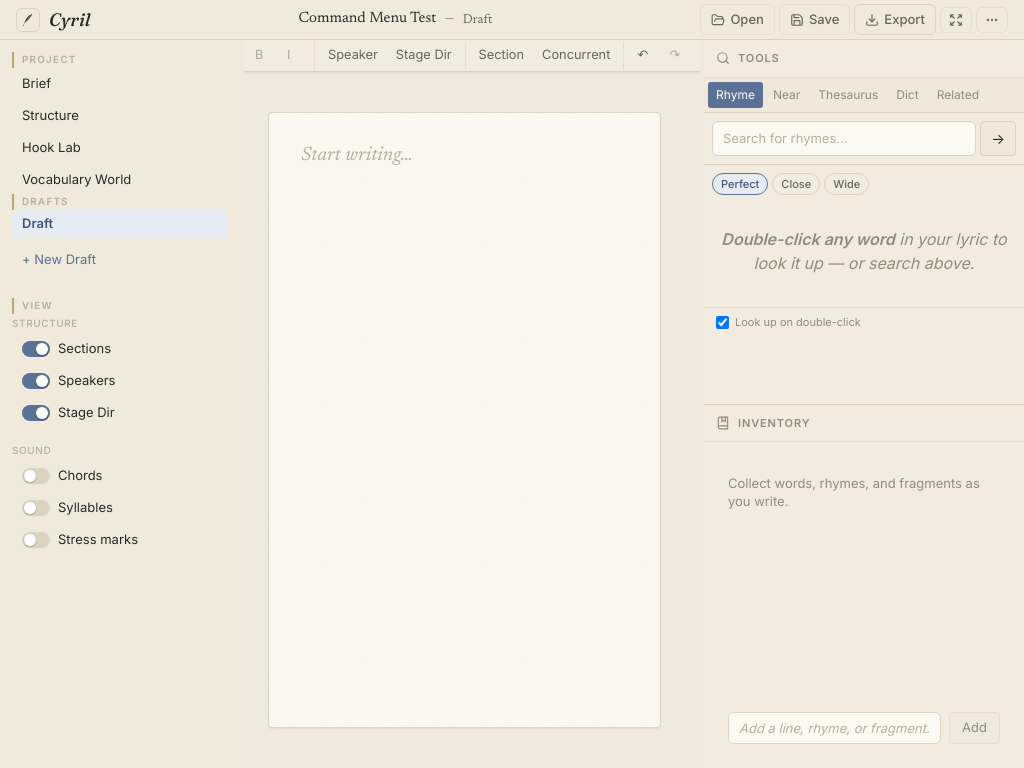
T-15.09: command menu lists shortcuts and closes on Escape › closes via the ✕ close button
Step 1. Press k
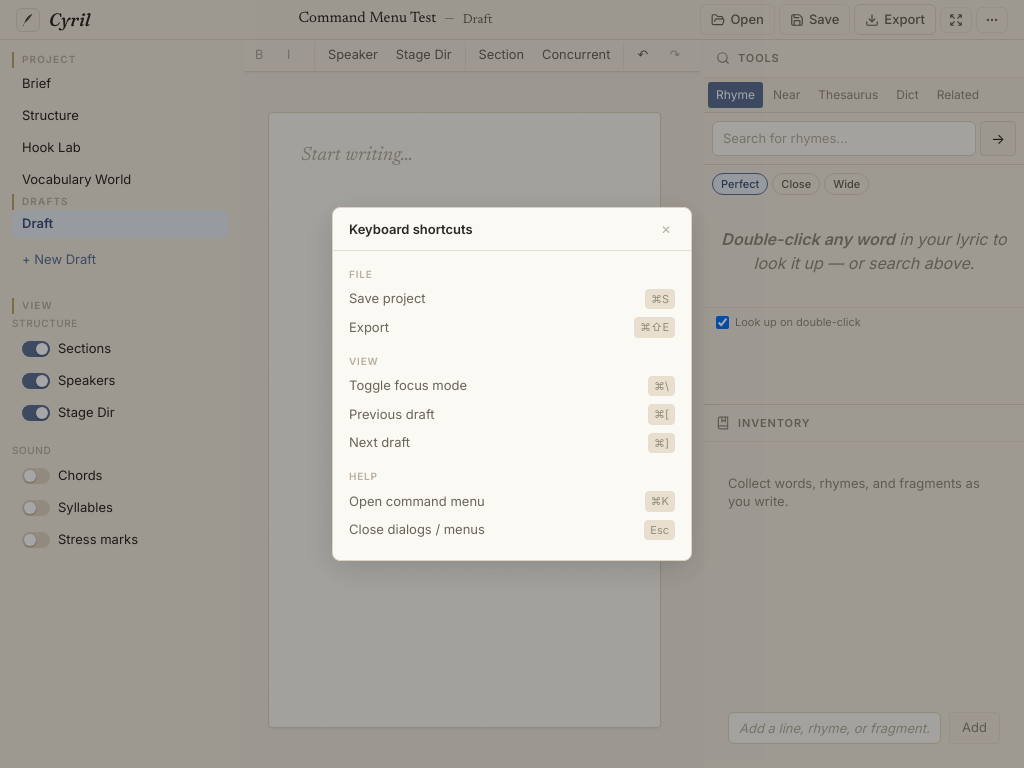
Step 2. Click the button with test id "command-menu-close" → (666, 230), box [657,222,675,238]
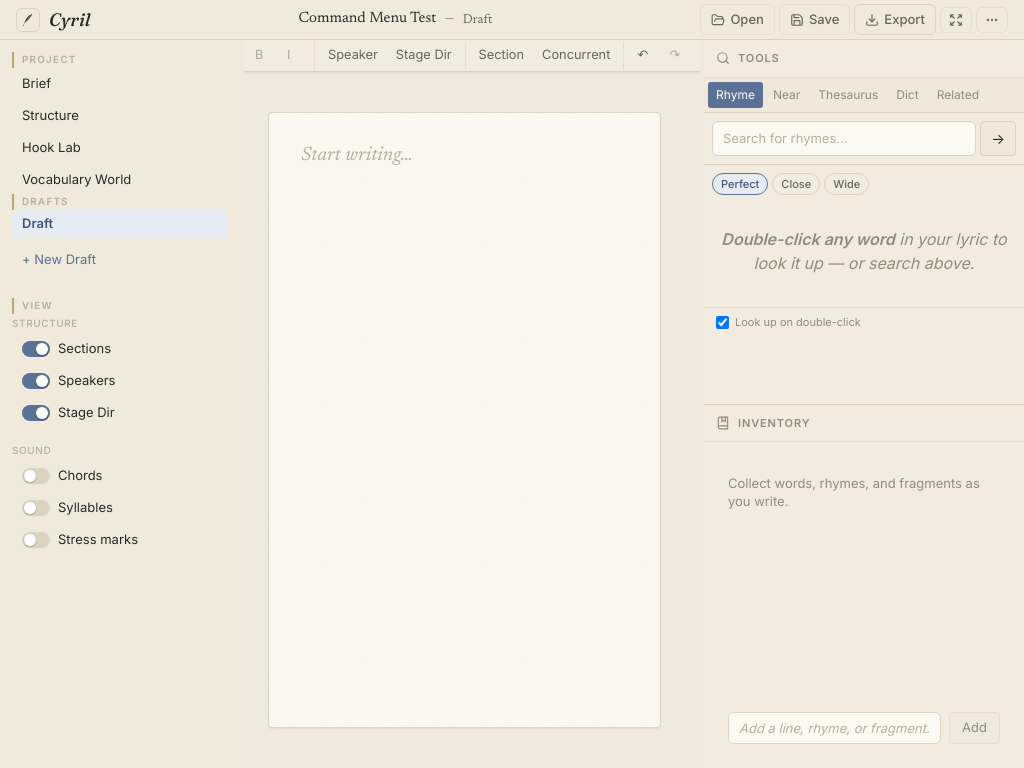
Now the dialog with test id "command-menu" is gone
